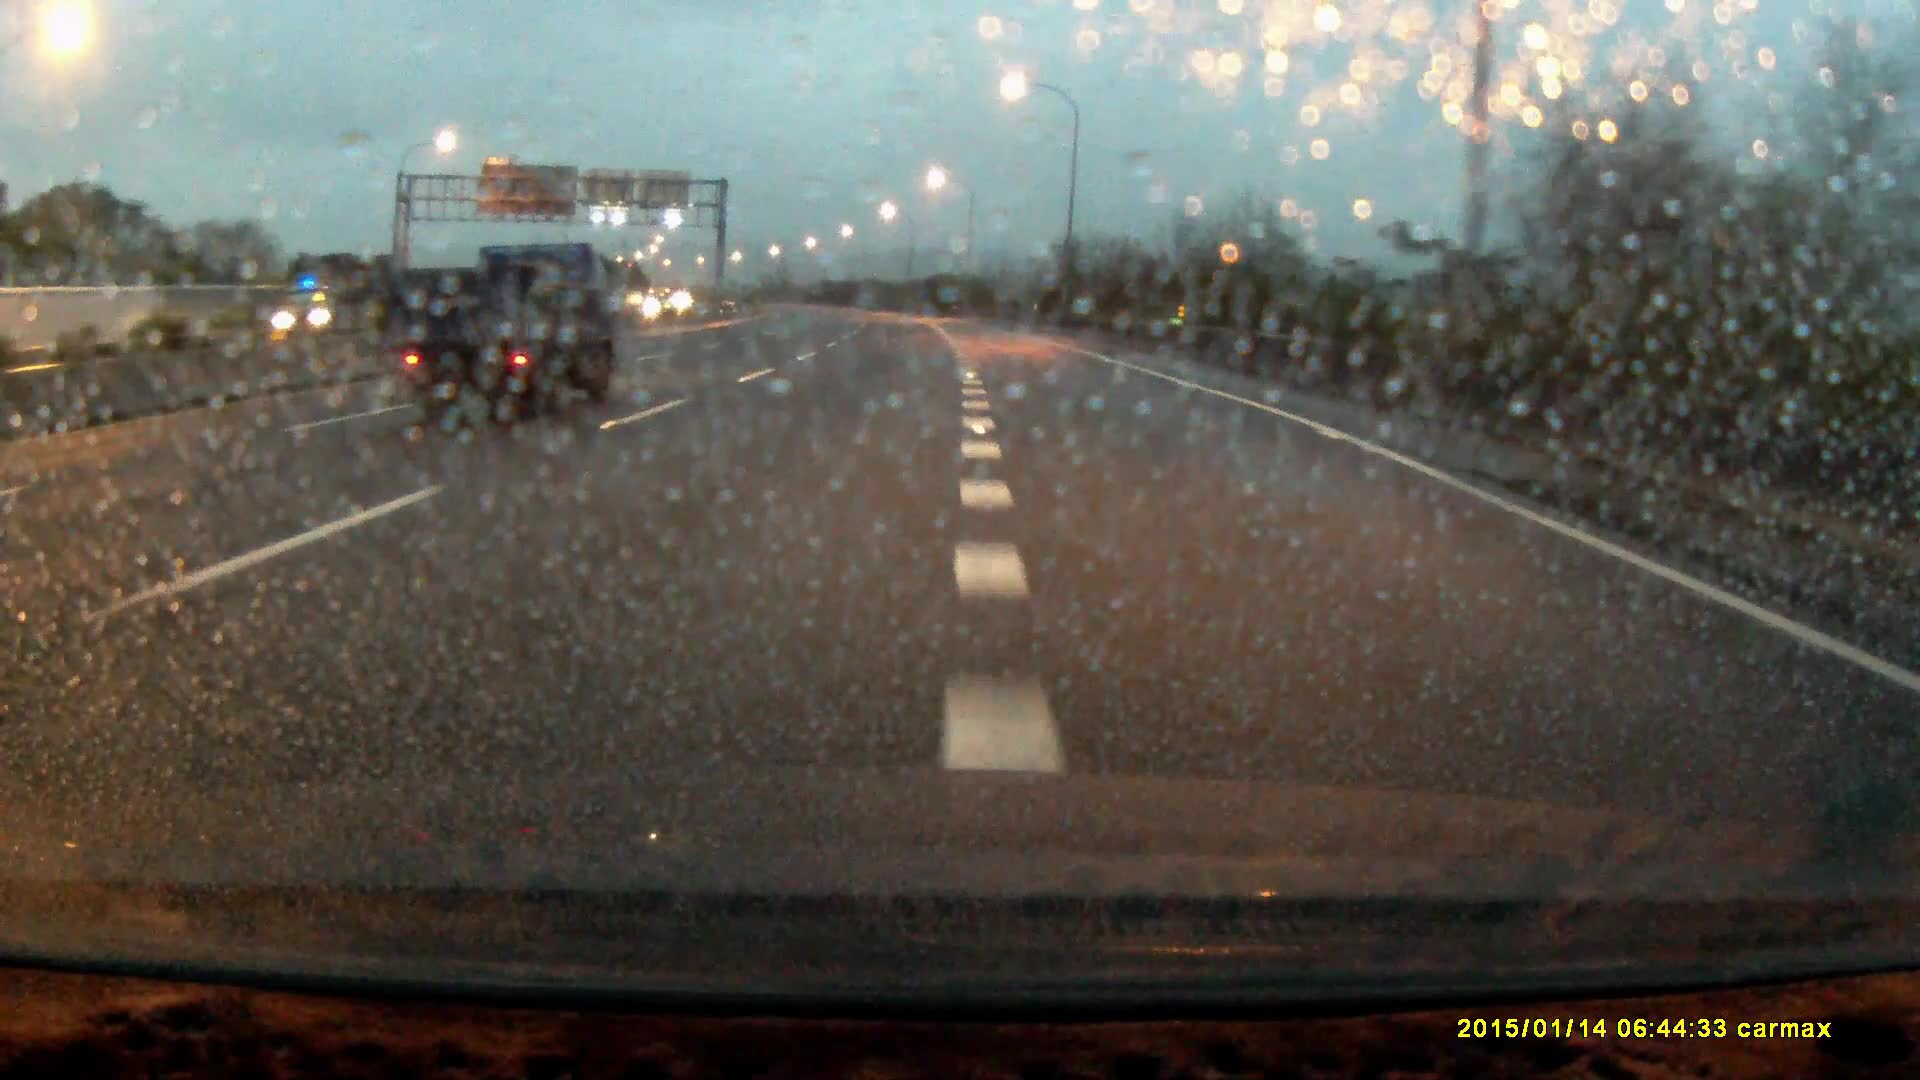vehicle: (386, 243, 612, 421)
